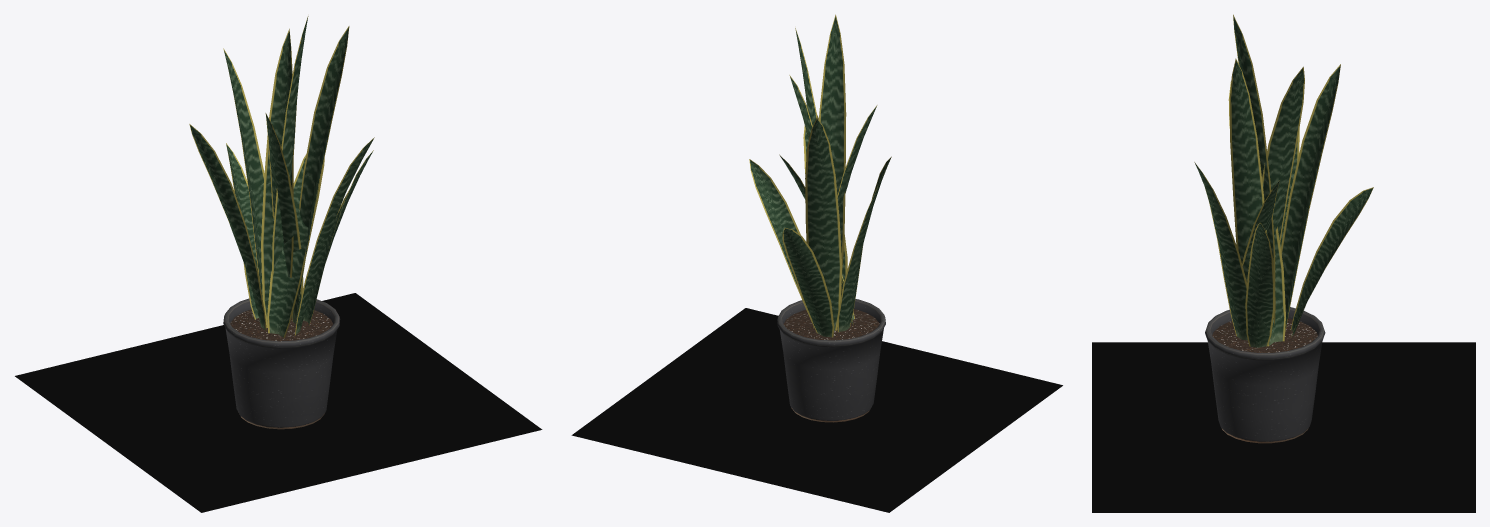
Rendered from snake_plant.glb.
3 renders of one model, left to right at view 1: azimuth 30°, elevation 25°; view 2: azimuth 150°, elevation 25°; view 3: azimuth 270°, elevation 25°, orthographic. The views are drawn at different scales.
Visible parts, largest first — view 1: snake_plant_Shadow, snake_plant_LOD0; view 2: snake_plant_Shadow, snake_plant_LOD0; view 3: snake_plant_Shadow, snake_plant_LOD0.
Boxes of the visible parts, x1,y1,x2,y2 form: snake_plant_Shadow: (15,293,542,512); snake_plant_LOD0: (189,16,374,429); snake_plant_Shadow: (571,308,1062,512); snake_plant_LOD0: (749,14,891,422); snake_plant_Shadow: (1092,342,1475,512); snake_plant_LOD0: (1194,14,1373,443).
Size of what is drawn, in the model's own units: 0.714 by 0.8132 by 0.6782.
3 materials, 3 textured.
